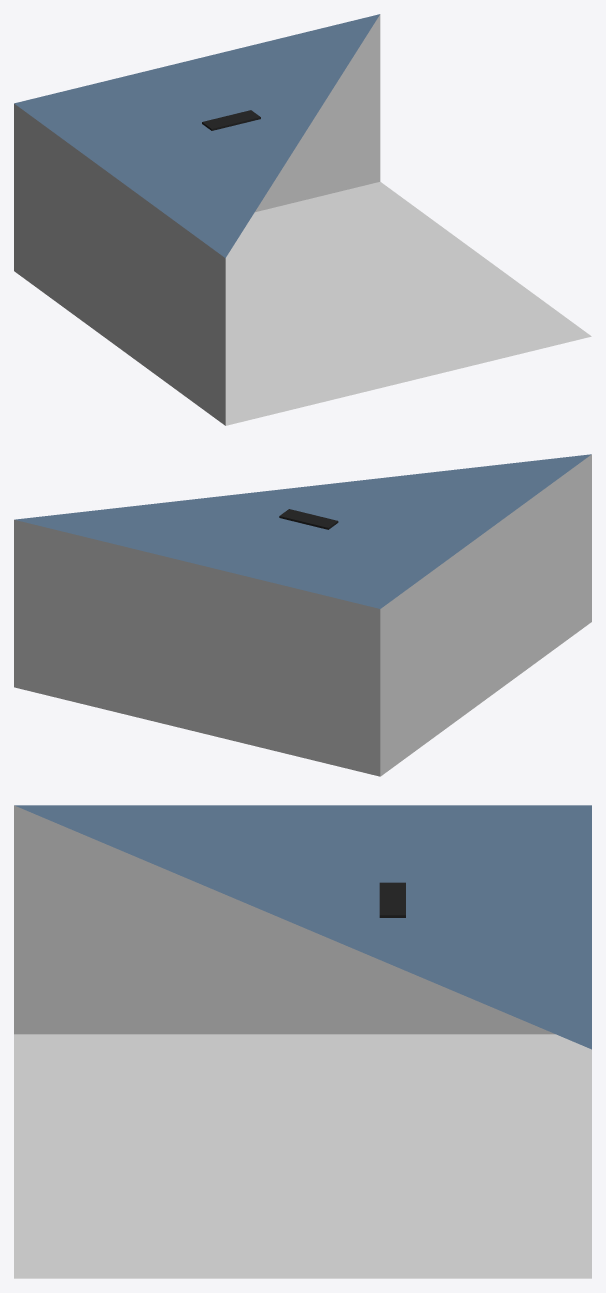
Rendered from light.fbx.
3 views of the same model, one above another, from view 1: azimuth 30°, elevation 25°; view 2: azimuth 150°, elevation 25°; view 3: azimuth 270°, elevation 25° (orthographic). The views are drawn at different scales.
Parts seen in each view (by area): view 1: Plane, Plane.001; view 2: Plane, Plane.001; view 3: Plane, Plane.001.
Boxes of the visible parts, x1,y1,x2,y2 form: Plane: [14, 14, 591, 425]; Plane.001: [202, 110, 260, 130]; Plane: [14, 454, 591, 776]; Plane.001: [279, 509, 338, 529]; Plane: [14, 805, 591, 1278]; Plane.001: [379, 882, 405, 917].
Size of the model in its own units: 4372 by 1934 by 4372.
